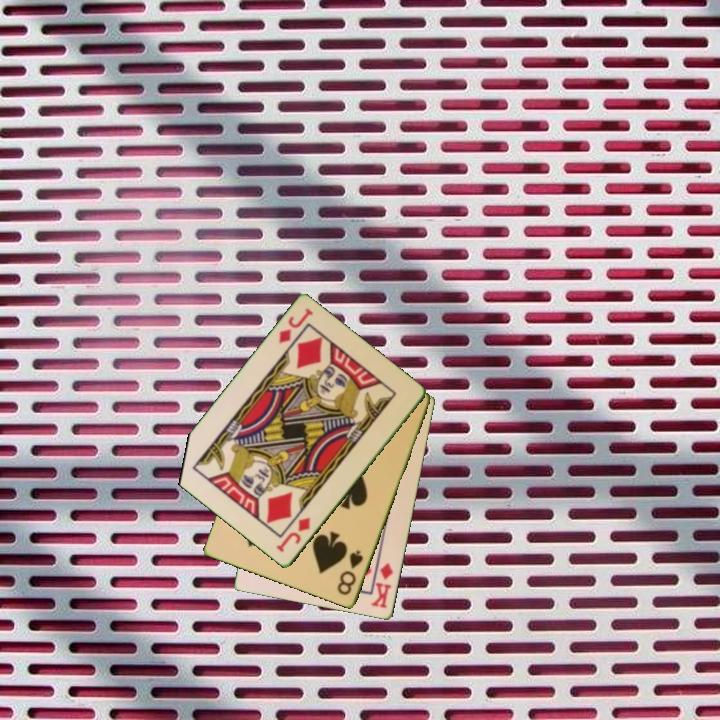8s: (334, 547, 366, 598)
Jd: (275, 305, 316, 347), (272, 514, 313, 555)
Kd: (368, 559, 396, 611)
